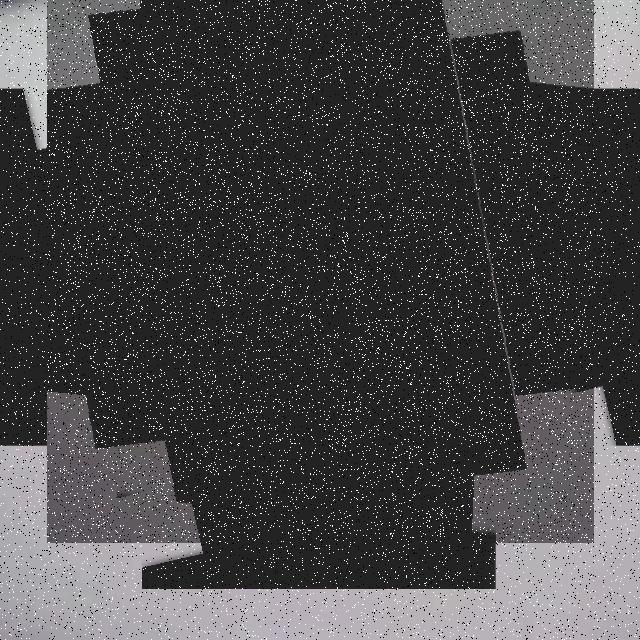dua ribu rupiah: (47, 0, 594, 543)
